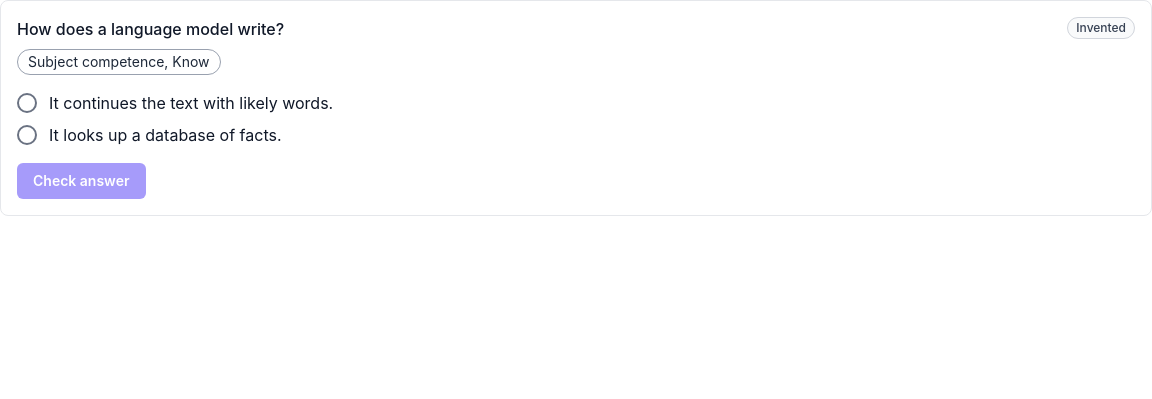
Test case: SingleChoiceItem › Try again clears the answer and the feedback
Click the radio button named "It continues the text with likely words." next to "It continues the text with likely words." at (27, 103), box [17,93,37,113]
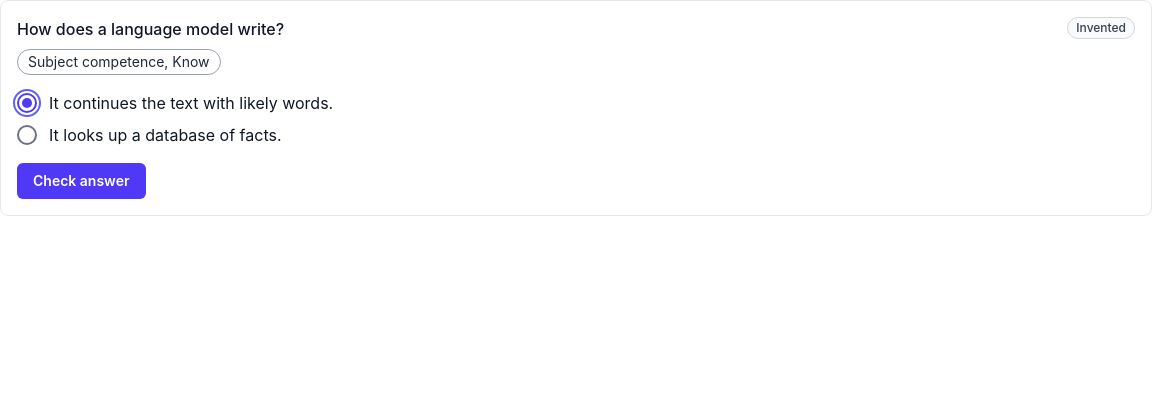
Click the button "Check answer" at (81, 181), box [17,163,146,199]
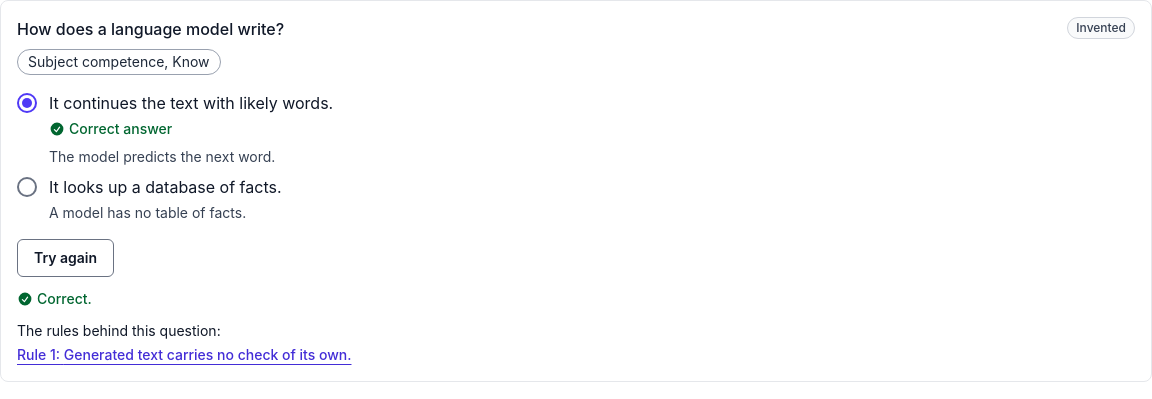
Expected: the text "Correct." is shown, [17,289,92,309]
Click the button "Try again" at (66, 258), box [17,239,114,277]
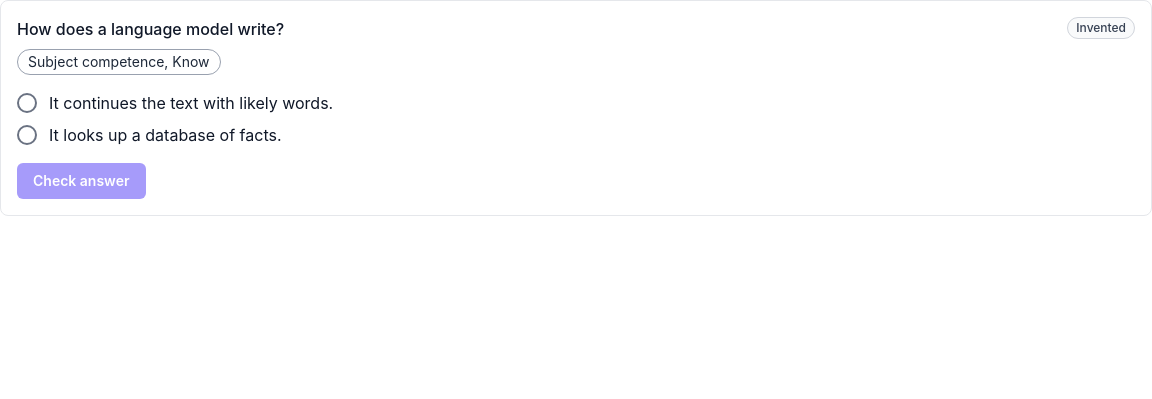
Expected: the radio button next to "It continues the text with likely words." is not checked, [17,93,37,113]
Expected: the text "Correct answer" is gone
Expected: the button "Check answer" is disabled, [17,163,146,199]
